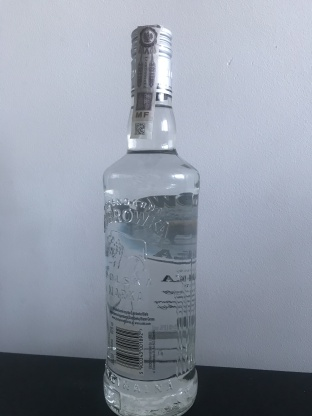nakretka: (128, 20, 175, 100)
